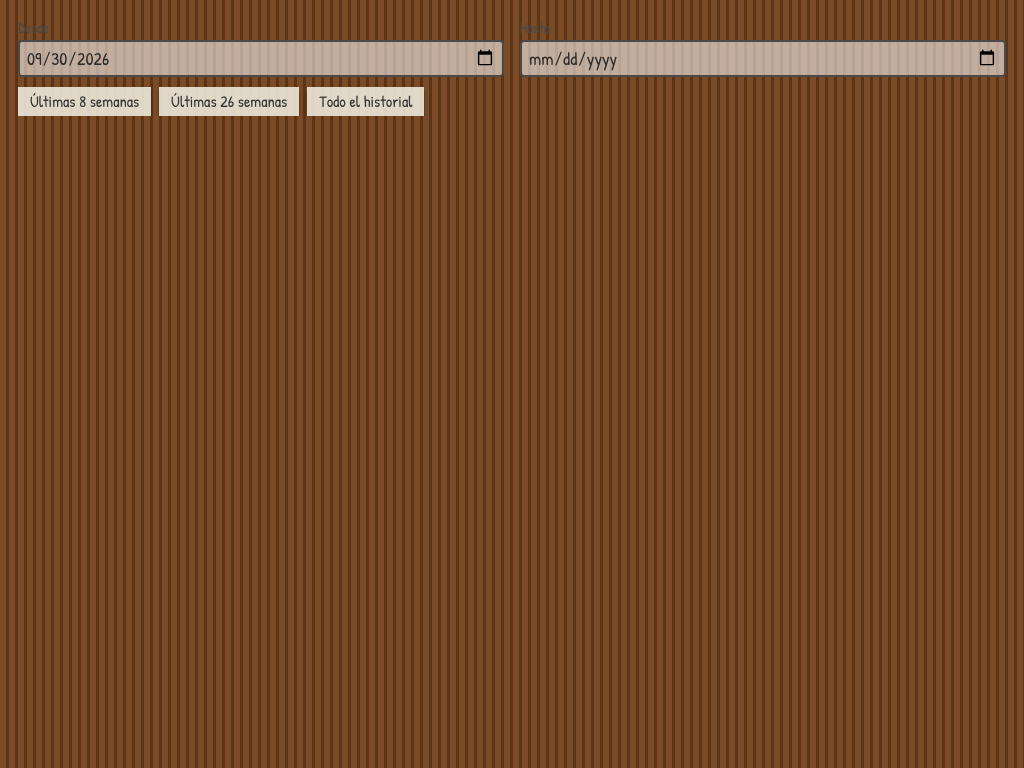
Test: DateRangePicker › un rango invertido muestra el error y no se devuelve
This screenshot has width=1024, height=768.
Type "2026-09-01" into the date field labelled "Hasta" at {"x": 763, "y": 58}, box [520,40,1006,77]
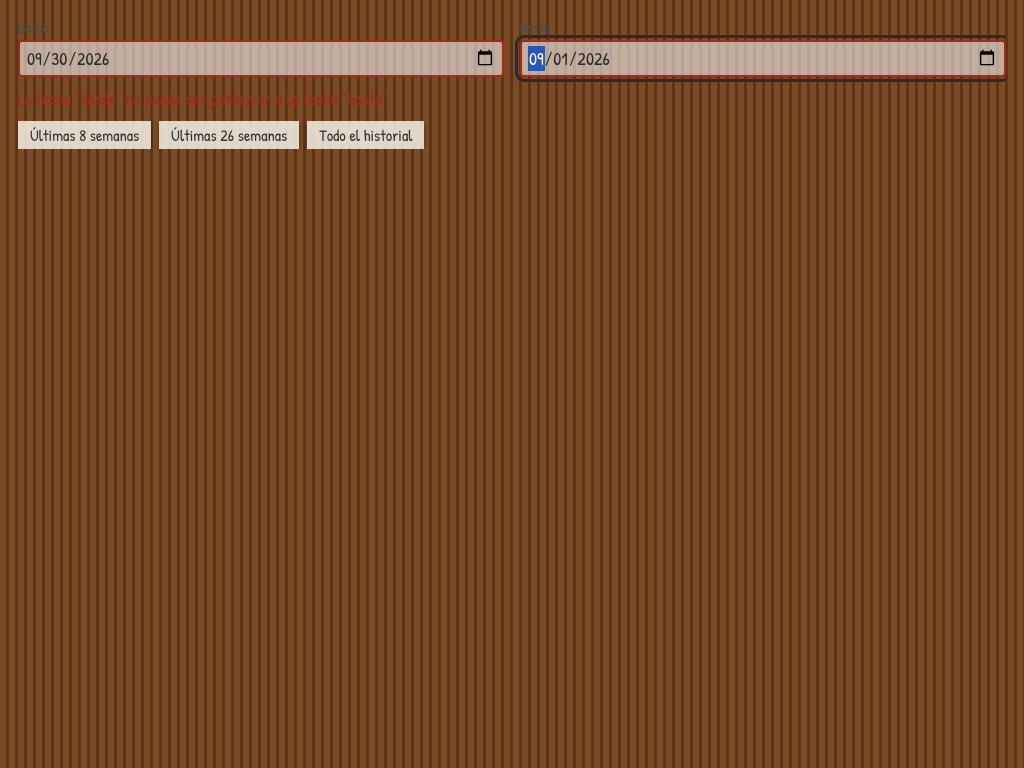
Expected: the message shows "no puede ser posterior", [18,86,391,111]
